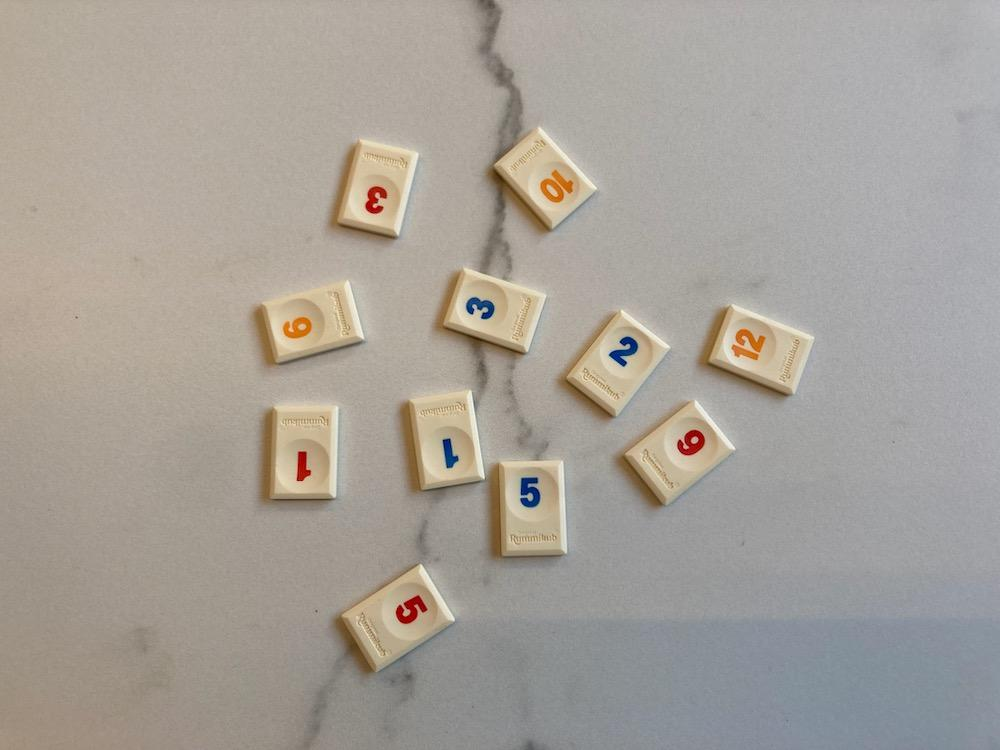blue_1: (408, 392, 483, 490)
blue_2: (566, 311, 670, 416)
blue_3: (443, 268, 545, 352)
blue_5: (500, 462, 566, 555)
orange_10: (494, 129, 596, 229)
orange_12: (709, 305, 814, 395)
orange_6: (263, 281, 365, 363)
red_1: (270, 406, 338, 498)
red_3: (338, 141, 418, 236)
red_5: (342, 564, 455, 672)
red_9: (625, 400, 734, 504)
